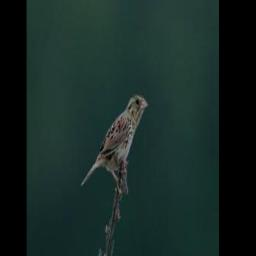Sparrow: (80, 92, 147, 195)
